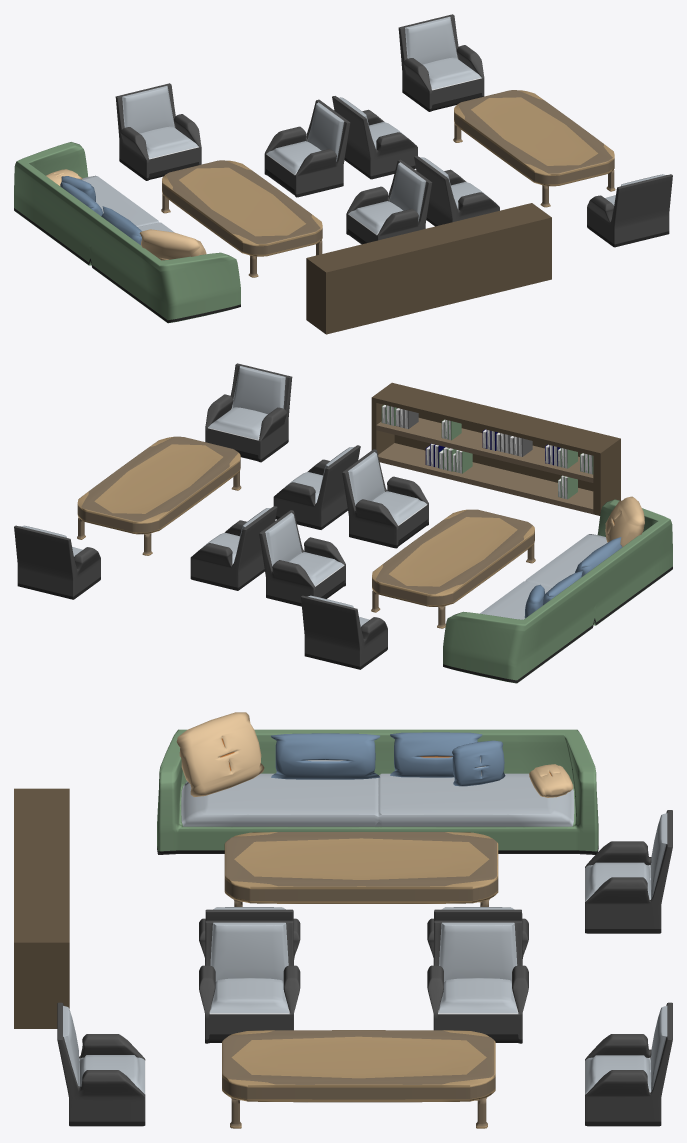
File: Lounge_area.fbx
3 renders of one model, top to bottom at view 1: azimuth 30°, elevation 25°; view 2: azimuth 150°, elevation 25°; view 3: azimuth 270°, elevation 25°, orthographic. The views are drawn at different scales.
Visible parts, largest first — view 1: pCube180, pCube194, pCube169, pCube175, pCube170, pCube176, pCube162; view 2: pCube180, pCube194, pCube169, pCube175, pCube170, pCube176, pCube162; view 3: pCube169, pCube180, pCube176, pCube170, pCube194, pCube162, pCube175.
Part boxes in pixels (x1=…): pCube180: x1=398, y1=14, x2=672, y2=247; pCube194: x1=306, y1=203, x2=551, y2=334; pCube169: x1=14, y1=142, x2=240, y2=323; pCube175: x1=264, y1=99, x2=432, y2=244; pCube170: x1=161, y1=160, x2=322, y2=277; pCube176: x1=332, y1=96, x2=499, y2=226; pCube162: x1=115, y1=83, x2=201, y2=180; pCube180: x1=14, y1=363, x2=292, y2=599; pCube194: x1=371, y1=382, x2=620, y2=515; pCube169: x1=443, y1=496, x2=672, y2=683; pCube175: x1=259, y1=449, x2=428, y2=606; pCube170: x1=371, y1=509, x2=535, y2=628; pCube176: x1=190, y1=445, x2=360, y2=590; pCube162: x1=301, y1=595, x2=387, y2=669; pCube169: x1=157, y1=712, x2=598, y2=854; pCube180: x1=57, y1=1002, x2=672, y2=1128; pCube176: x1=199, y1=920, x2=528, y2=1043; pCube170: x1=224, y1=832, x2=498, y2=906; pCube194: x1=14, y1=788, x2=69, y2=1028; pCube162: x1=585, y1=810, x2=672, y2=933; pCube175: x1=199, y1=907, x2=528, y2=965.
Size of the model in its own units: 28.55 by 4.11 by 24.32.
